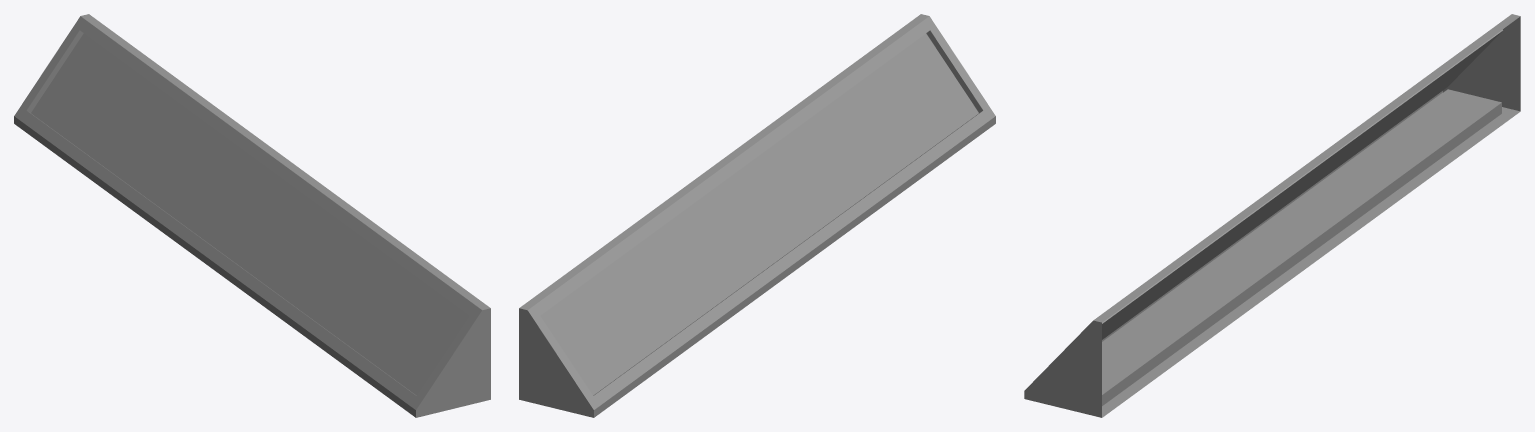
The model's file is Vent_08.FBX.
3 renders of one model, left to right at view 1: azimuth 30°, elevation 25°; view 2: azimuth 150°, elevation 25°; view 3: azimuth 330°, elevation 25°, orthographic. The views are drawn at different scales.
Visible parts, largest first — view 1: Vent_08_LOD0; view 2: Vent_08_LOD0; view 3: Vent_08_LOD0.
Part boxes in pixels (x1,y1,x2,y2): Vent_08_LOD0: [14, 14, 490, 417]; Vent_08_LOD0: [519, 14, 995, 417]; Vent_08_LOD0: [1024, 14, 1520, 417].
Size of what is drawn, in the model's own units: 6.55 by 7.65 by 60.92.
